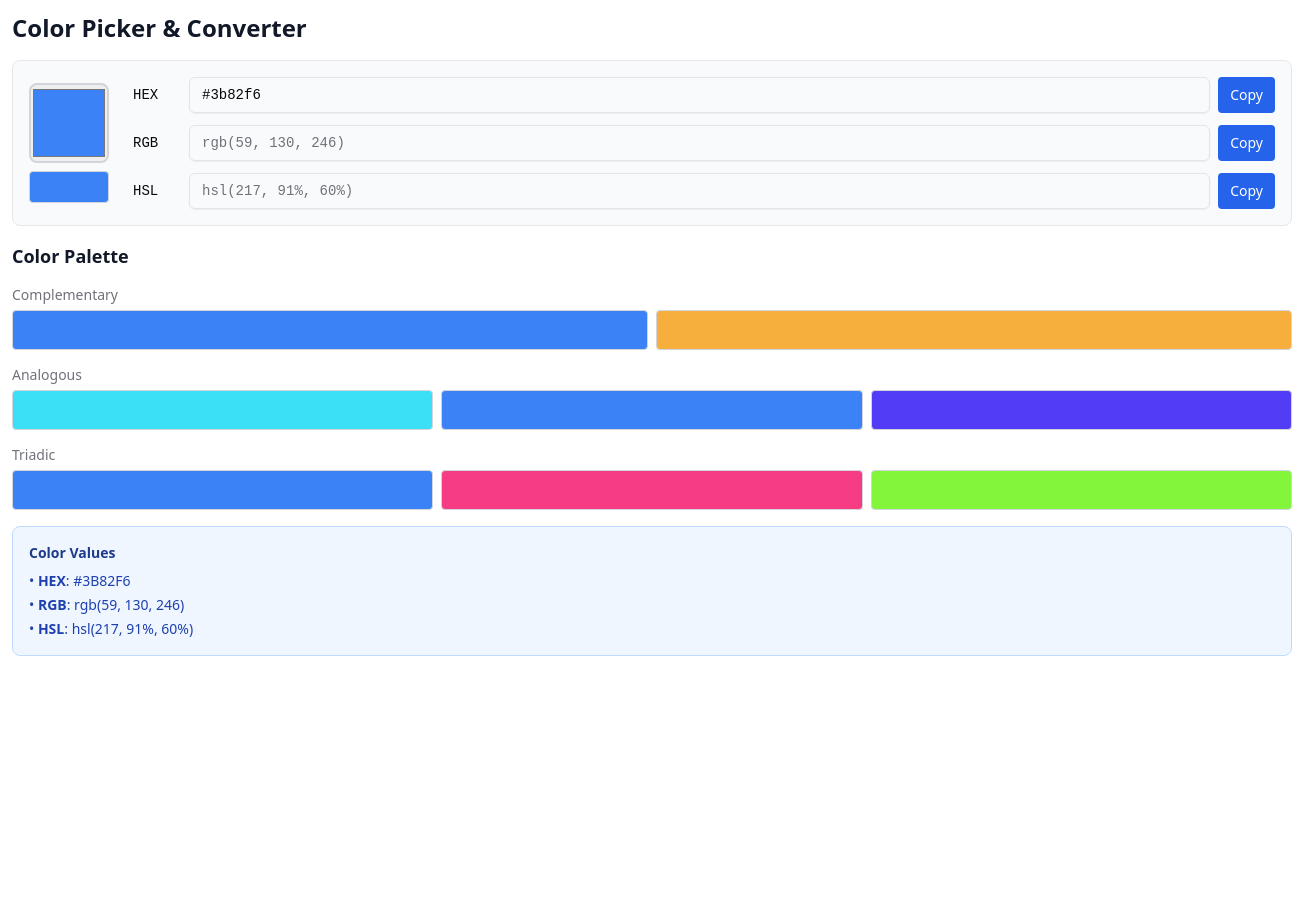
Test case: ColorPicker › Color Picker Native Input › should update hex input when picker changes
Step 1. Type "#00ff00" into the colour field with test id "color-picker-input" → (69, 123), box left=29, top=83, right=109, bottom=163
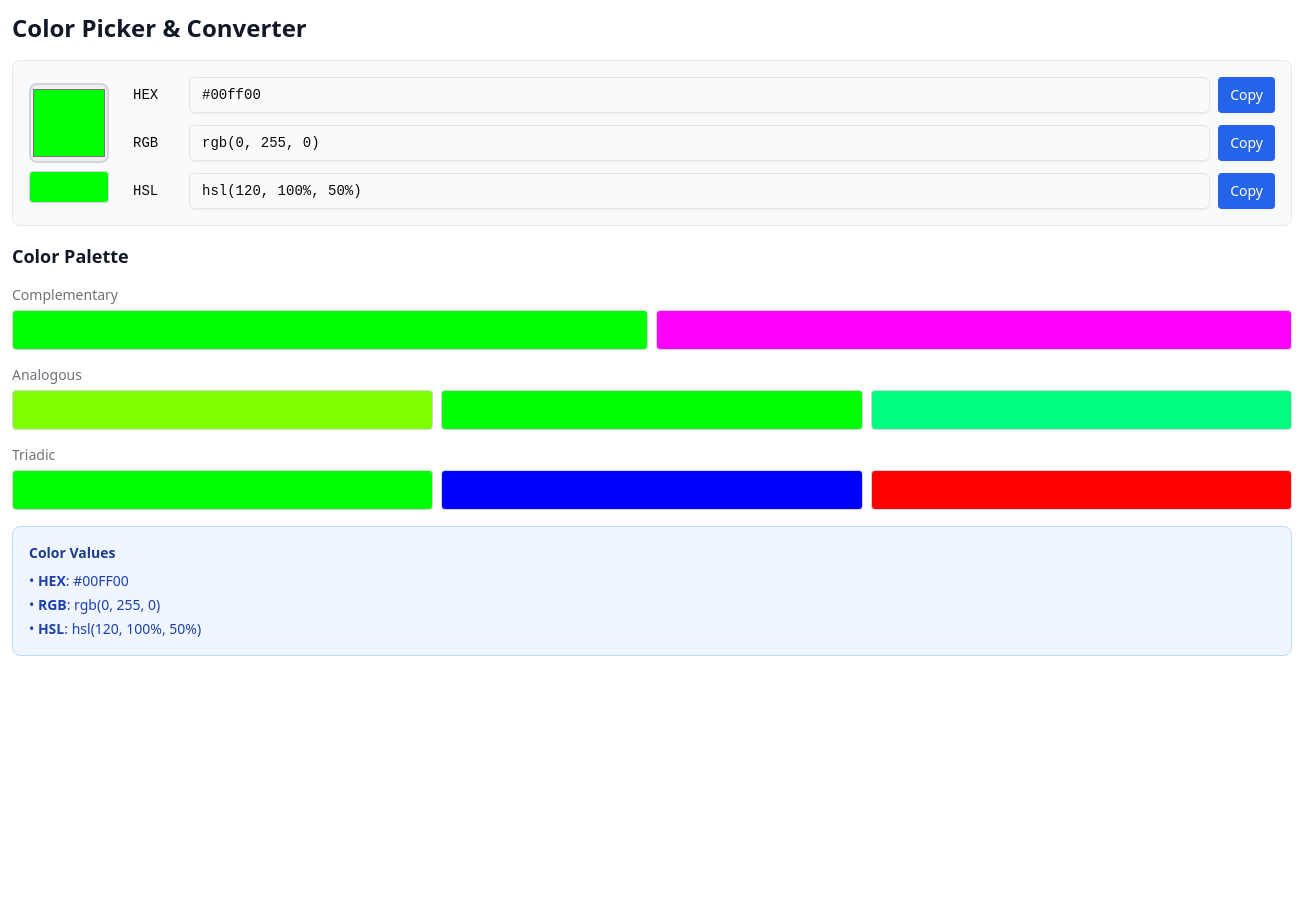
Check: the field with test id "hex-input" holds "#00ff00", box left=189, top=77, right=1210, bottom=113
